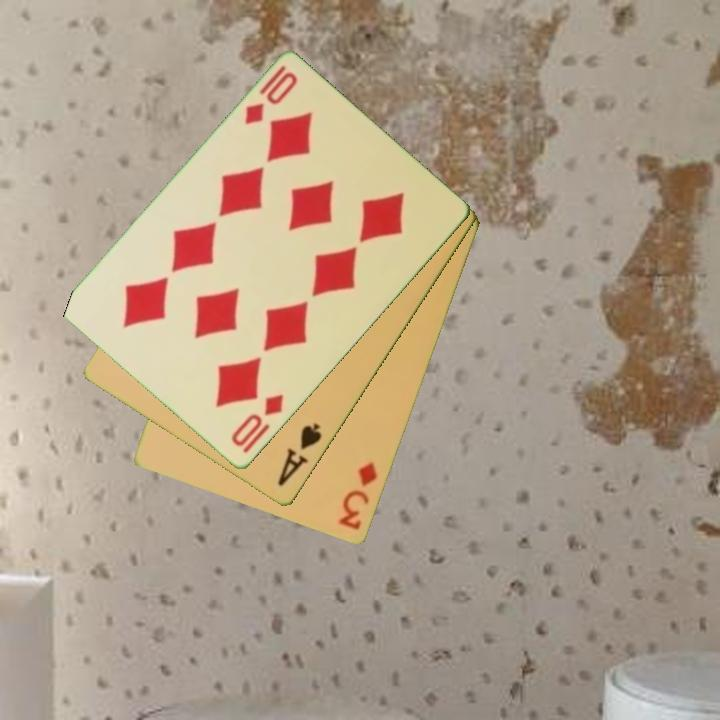10d: (241, 62, 301, 128), (227, 391, 287, 450)
3d: (335, 458, 381, 534)
As: (274, 419, 325, 490)
